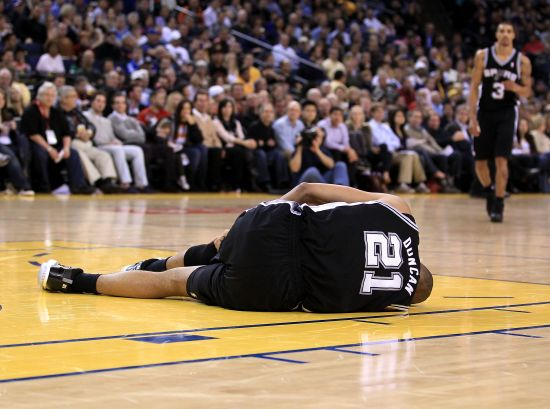10+: (2, 2, 547, 227)
down: (27, 172, 439, 316)
